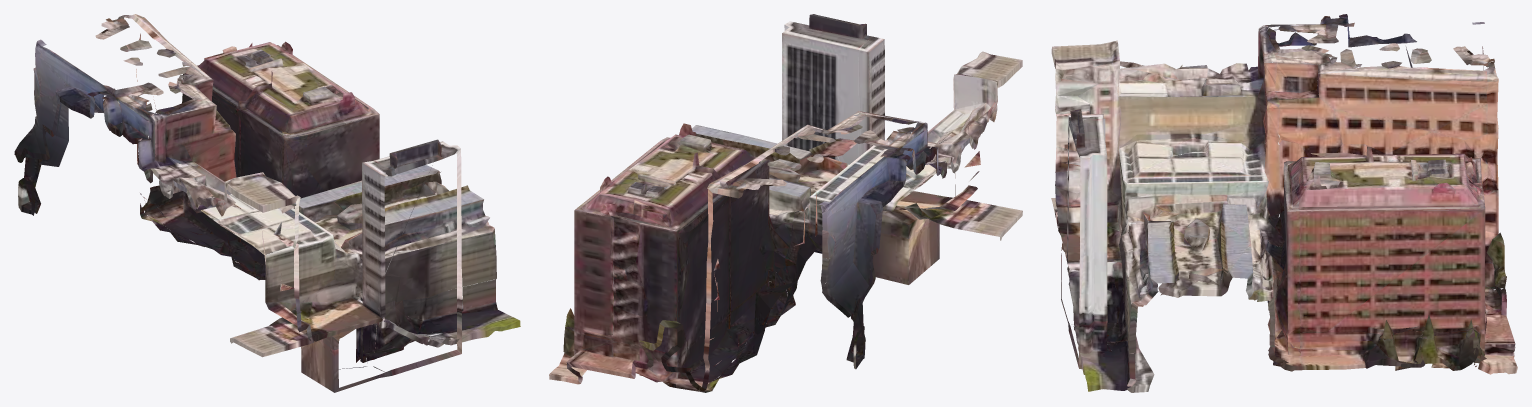
3 renders of one model, left to right at view 1: azimuth 30°, elevation 25°; view 2: azimuth 150°, elevation 25°; view 3: azimuth 270°, elevation 25°, orthographic. The views are drawn at different scales.
Parts seen in each view (by area): view 1: Mesh_0; view 2: Mesh_0; view 3: Mesh_0.
Part boxes in pixels (box(x1,y1,x2,y2)): Mesh_0: box(14, 14, 520, 392); Mesh_0: box(549, 14, 1022, 392); Mesh_0: box(1051, 14, 1517, 392).
Bounding box in the file's own units: 66.55 × 45.89 × 82.49.
2 materials, 2 textured.
